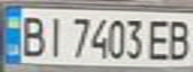0: (106, 16, 127, 61)
3: (124, 16, 148, 61)
4: (87, 15, 109, 60)
7: (66, 13, 90, 60)
B: (15, 11, 48, 57), (166, 17, 193, 62)
E: (145, 16, 172, 62)
I: (42, 12, 69, 59)
